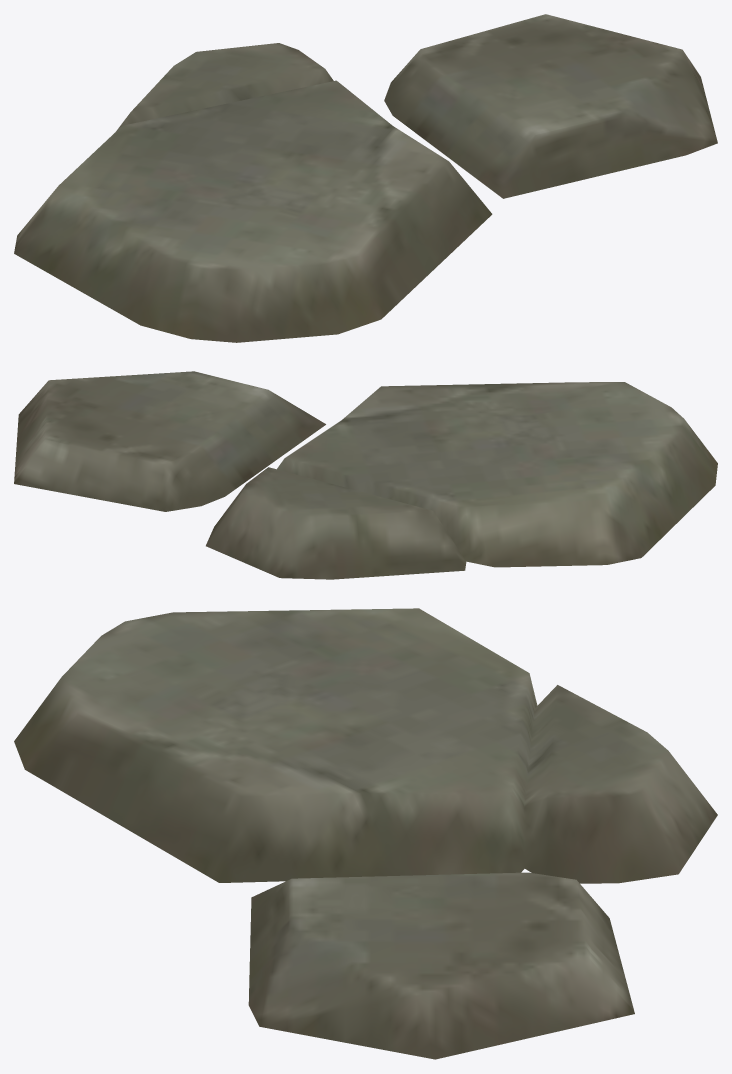
The picture shows the model from 3 angles, top to bottom: view 1: azimuth 30°, elevation 25°; view 2: azimuth 150°, elevation 25°; view 3: azimuth 270°, elevation 25°; orthographic projection. The views are drawn at different scales.
Size of the model in its own units: 2.66 by 0.1986 by 1.91.
Materials: 1 (1 with a texture image).
